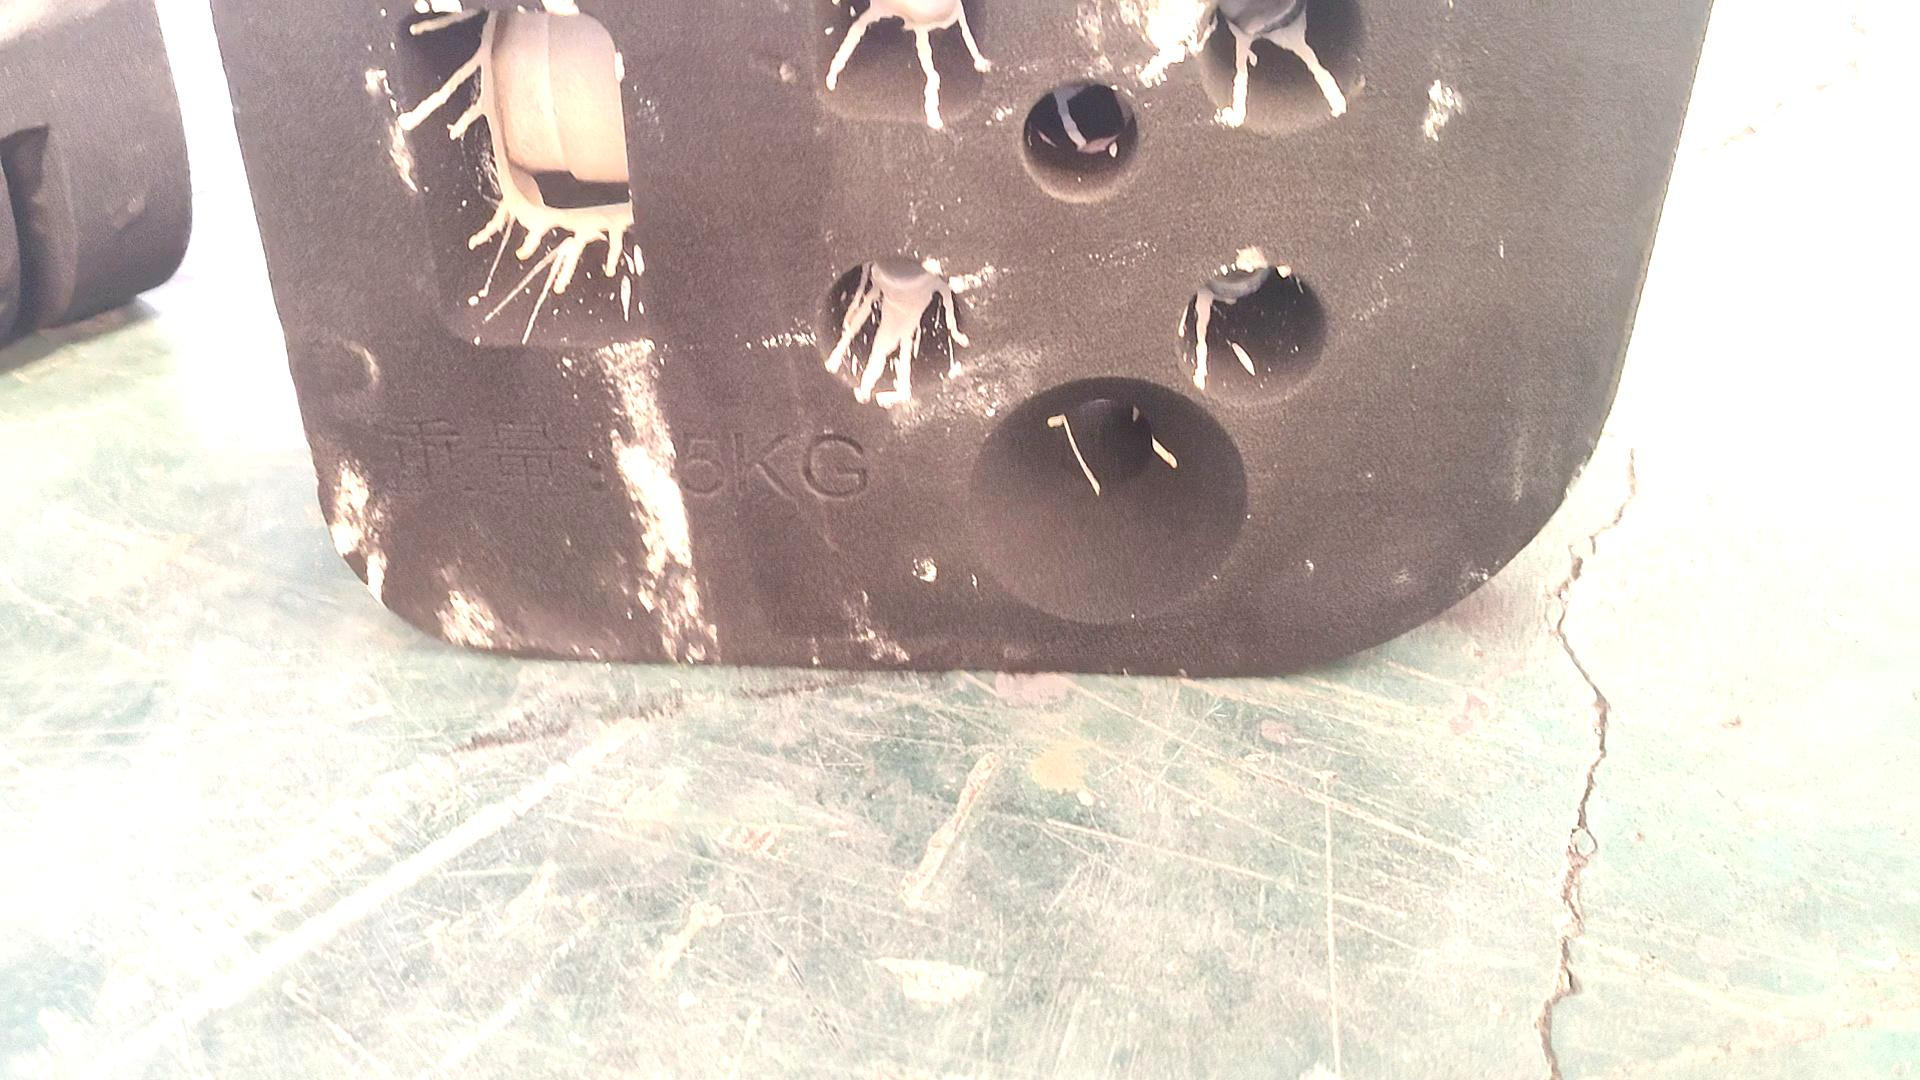pouring hole: (964, 377, 1247, 626)
